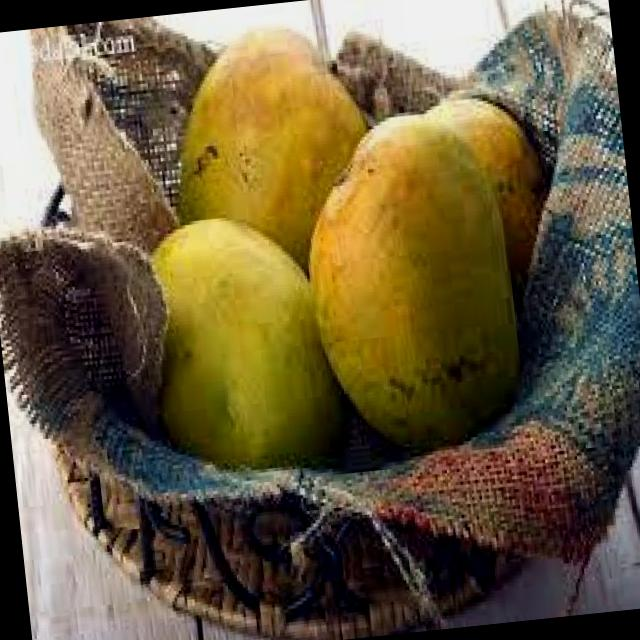Mango: (291, 102, 530, 460), (157, 14, 380, 284), (140, 203, 348, 479), (415, 83, 558, 283)
